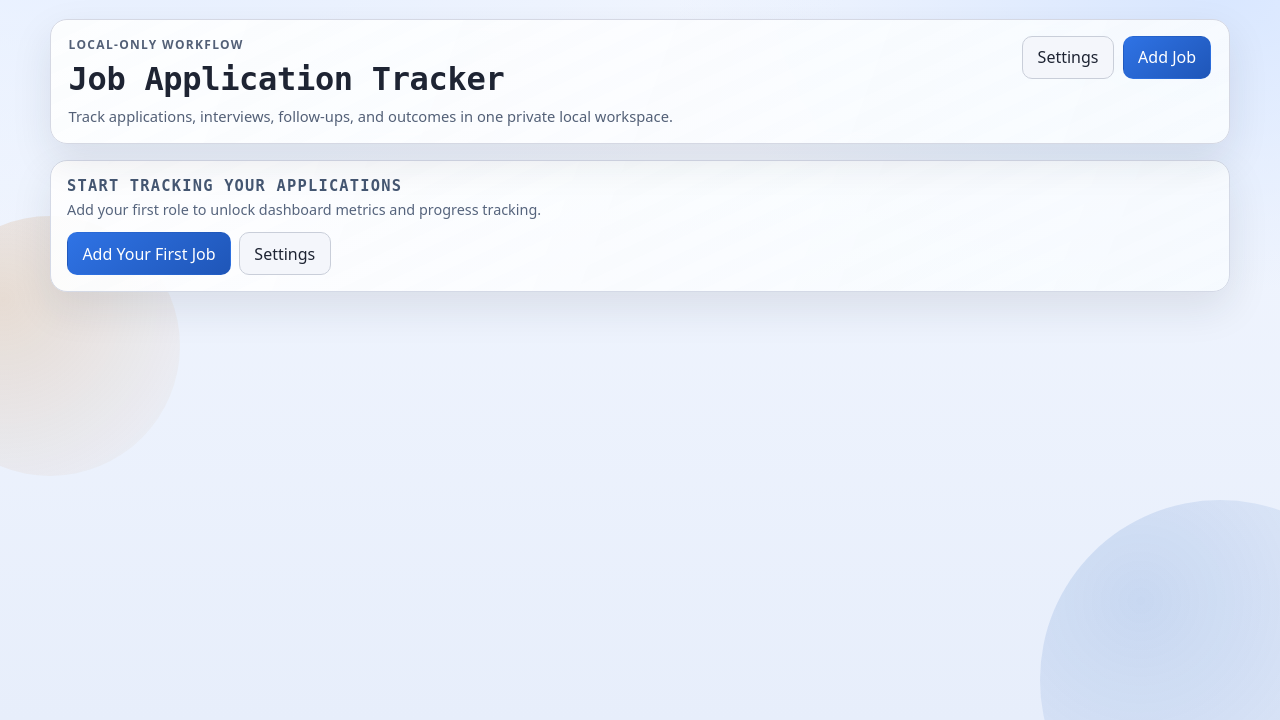
app integration › returns to list from job detail when Escape is pressed
The image size is (1280, 720).
Click the button "Add Job" at (1167, 57), box x1=1123 y1=36 x2=1211 y2=79
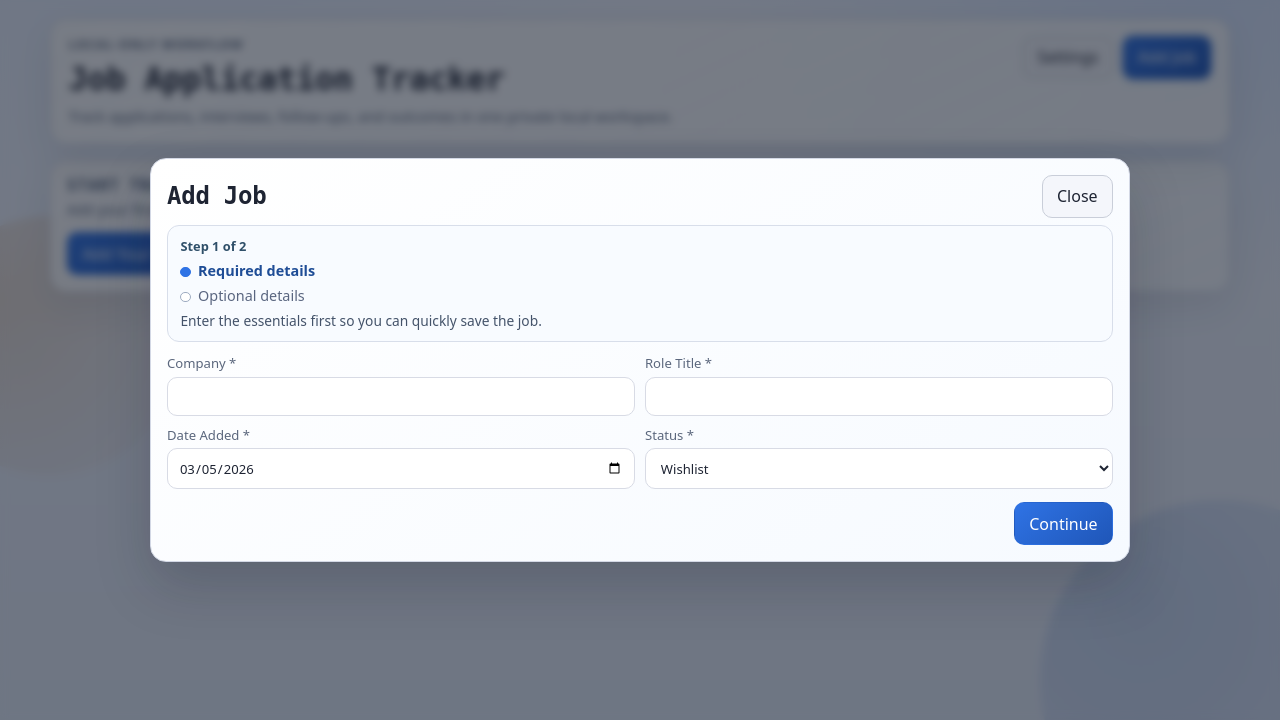
Type "Acme Inc" into the field labelled "Company *" at (401, 396), box x1=167 y1=377 x2=635 y2=416
Type "Platform Engineer" into the field labelled "Role Title *" at (879, 396), box x1=645 y1=377 x2=1113 y2=416
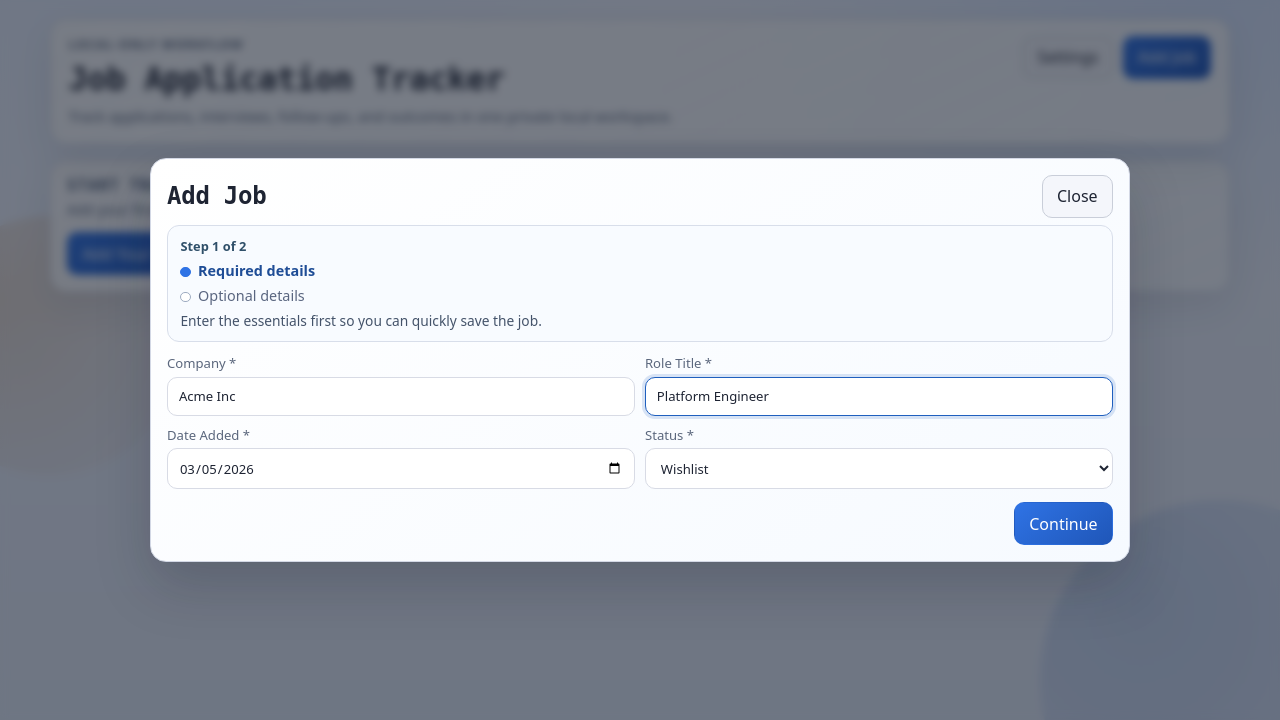
Click the button "Continue" at (1063, 524), box x1=1014 y1=502 x2=1113 y2=545
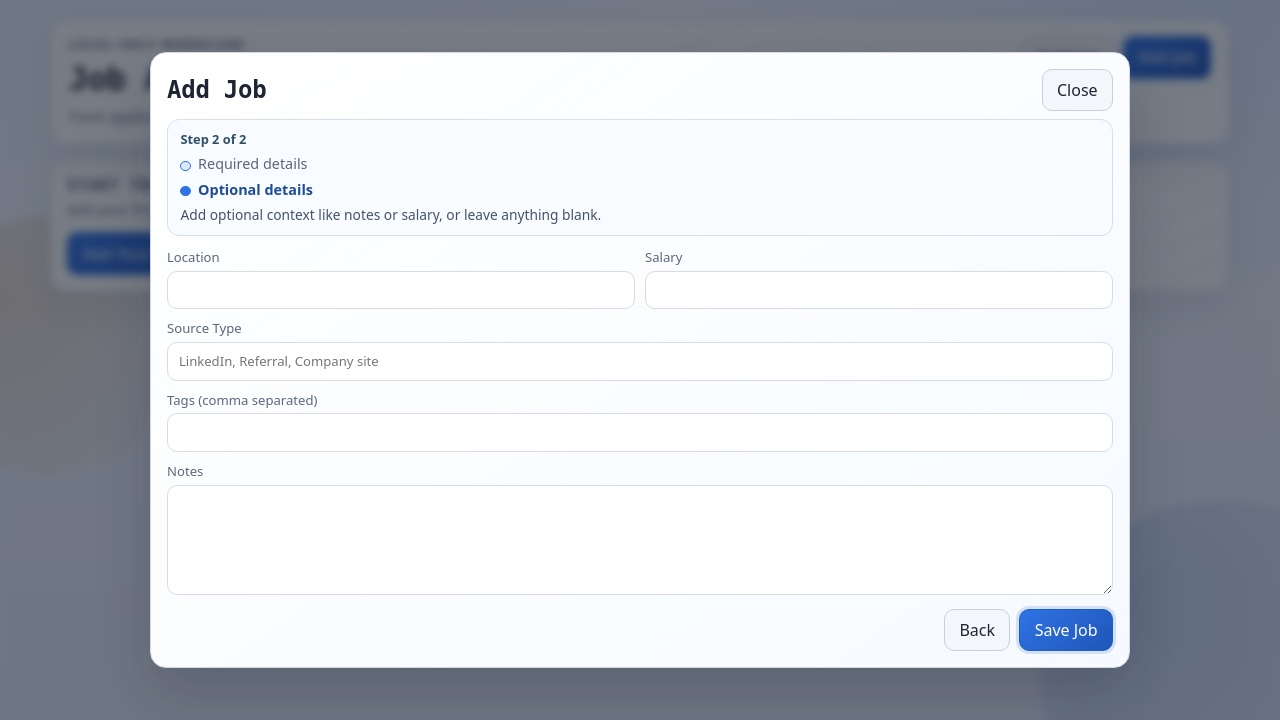
Click the button "Save Job" at (1066, 630), box x1=1019 y1=609 x2=1113 y2=651
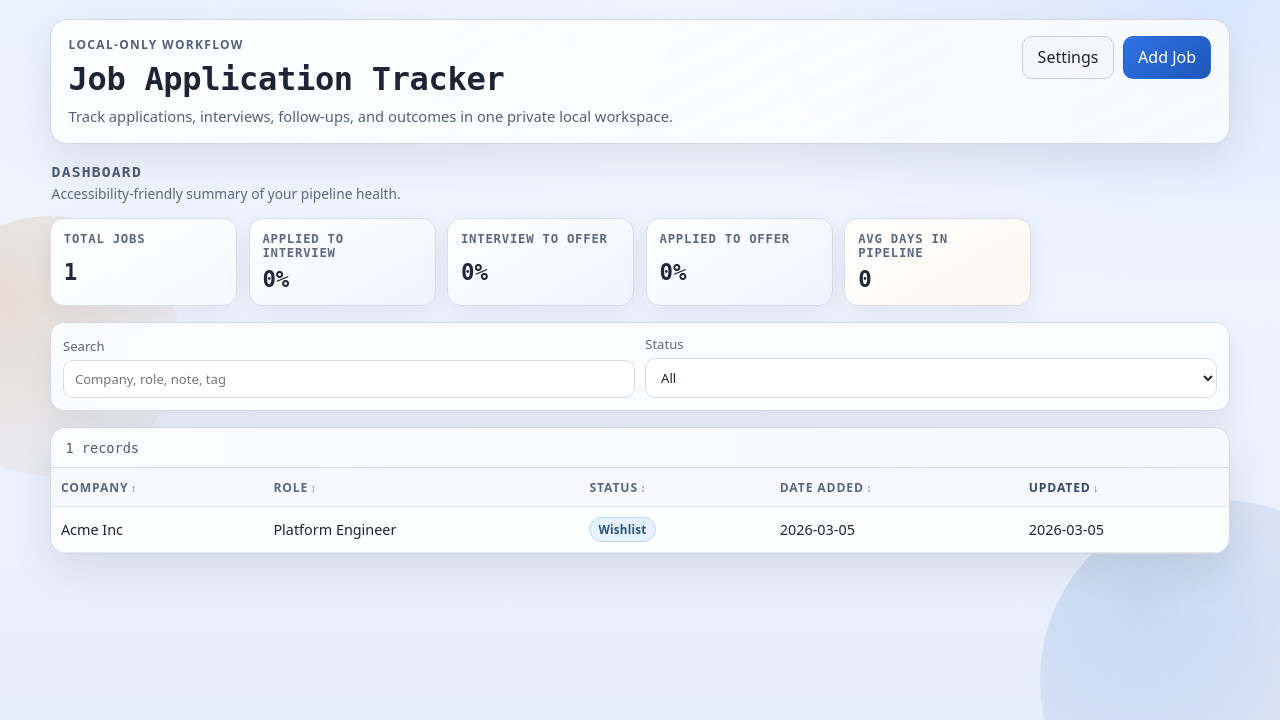
Click the link named "Open details for Acme Inc, Platform Engineer" at (640, 529), box x1=51 y1=506 x2=1229 y2=552
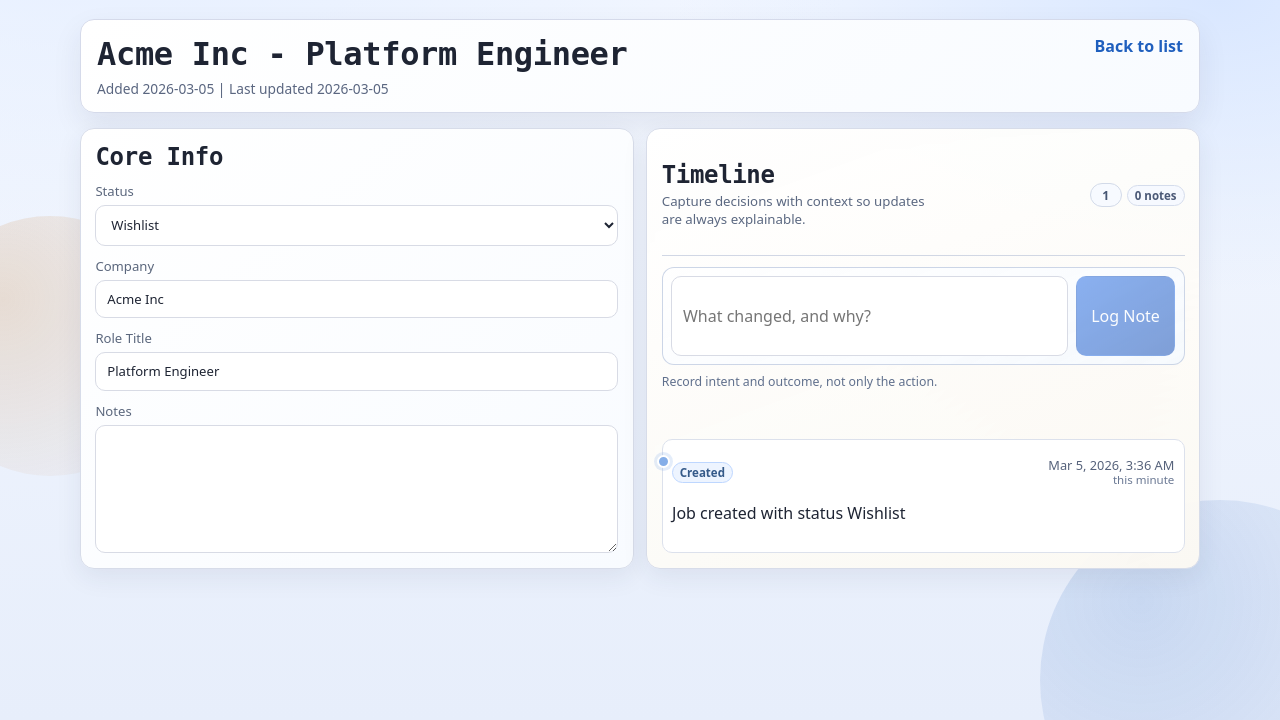
Expected: the heading "Acme Inc - Platform Engineer" is shown, x1=97 y1=35 x2=628 y2=73
Press Escape
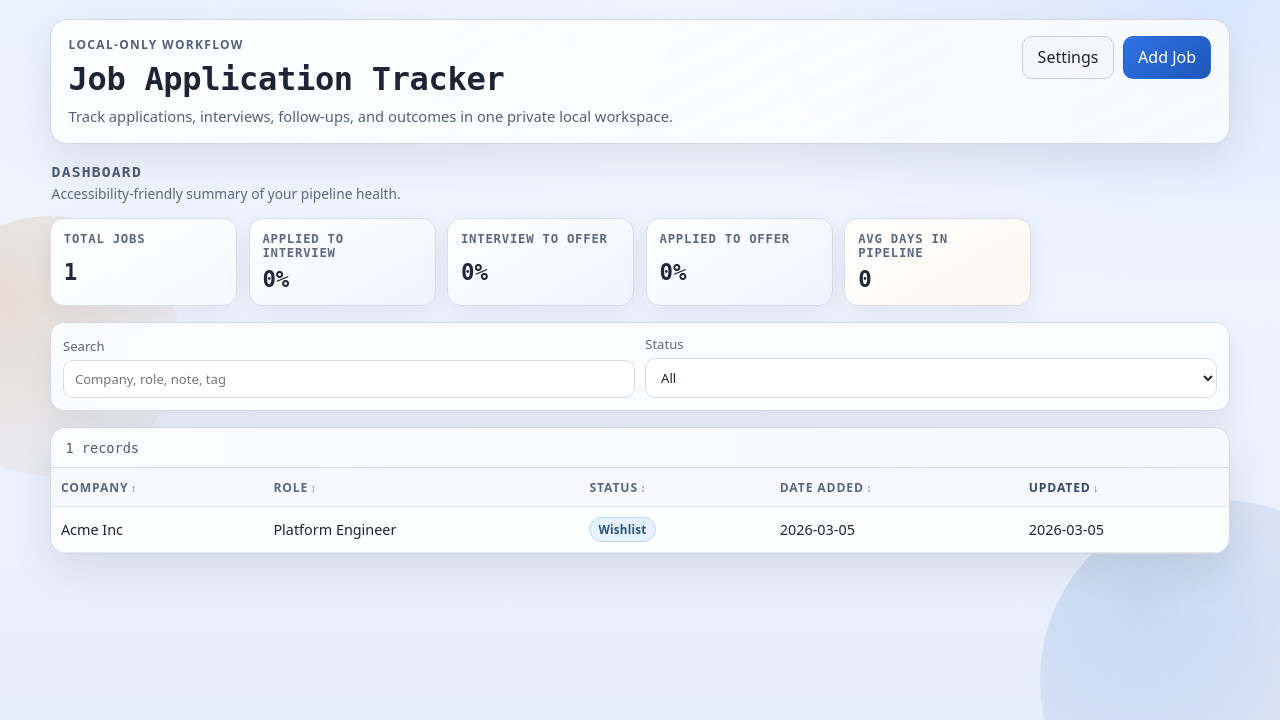
Expected: the heading "Job Application Tracker" is shown, x1=69 y1=60 x2=504 y2=98
